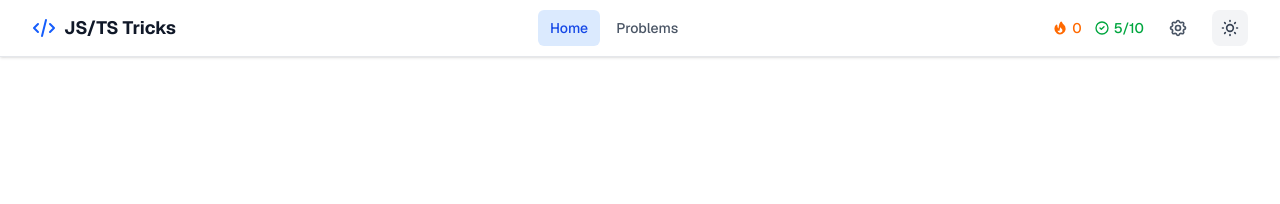
it: Navbar › Settings Menu Toggle › should show solved count in settings dropdown when problems are solved
Click the button named "settings" at (1178, 28), box [1160,10,1196,46]
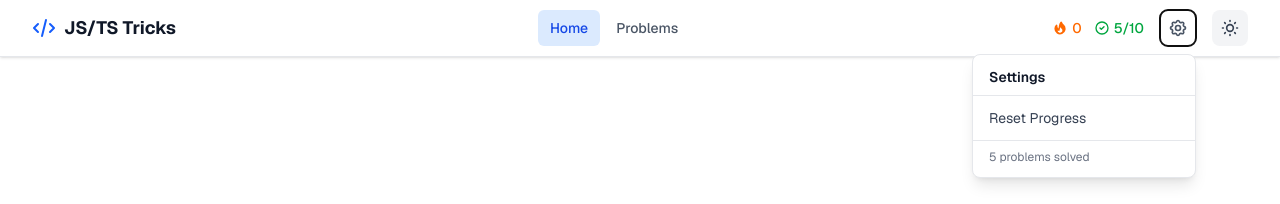
expect the text "5 problems solved" is shown: met, box [989,149,1090,165]
